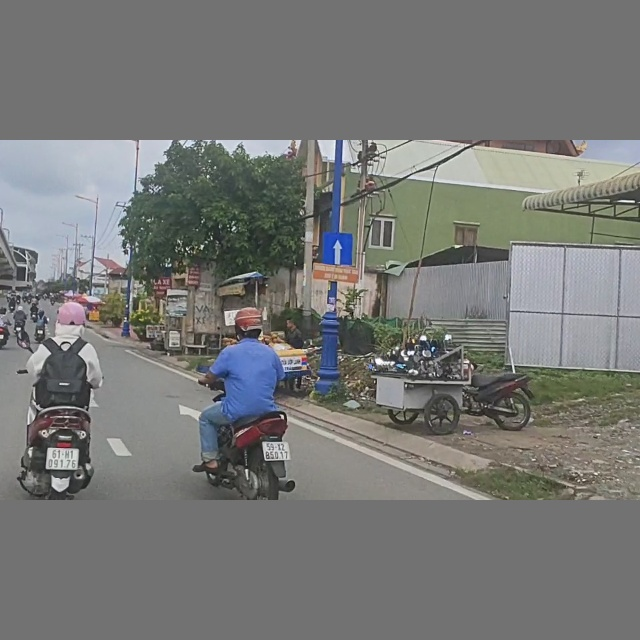I.407a: (322, 230, 355, 266)
